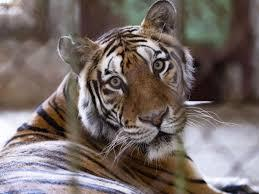Non_Gorille: (19, 0, 236, 187)
